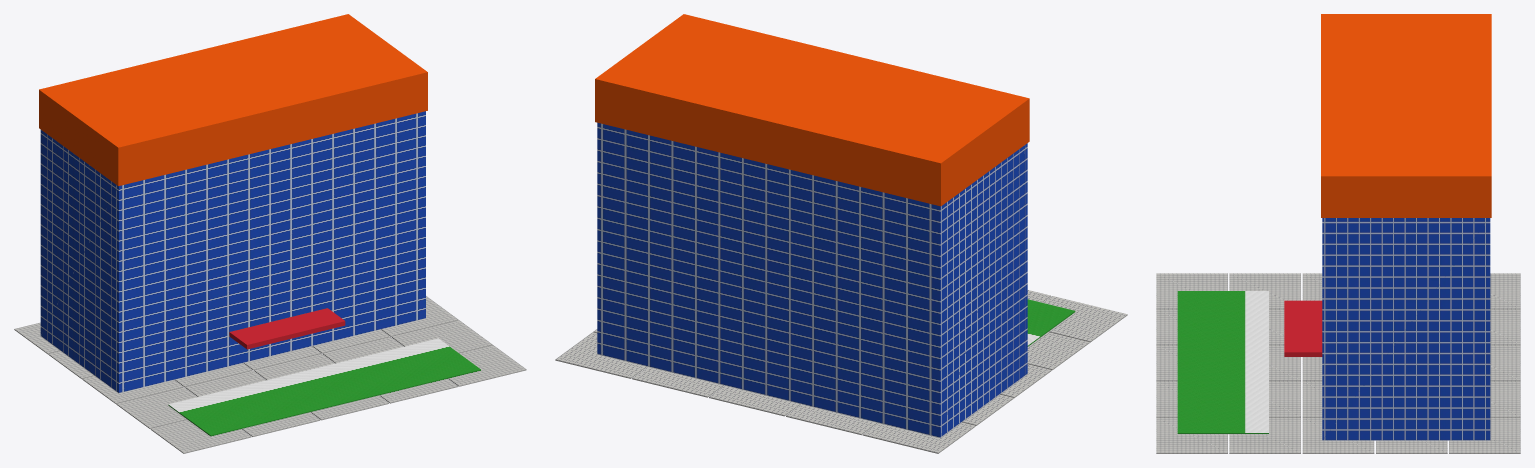
The picture shows the model from 3 angles, left to right: view 1: azimuth 30°, elevation 25°; view 2: azimuth 150°, elevation 25°; view 3: azimuth 270°, elevation 25°; orthographic projection. The views are drawn at different scales.
Visible parts, largest first — view 1: 28185_B47_Square1_Shopping_Mall; view 2: 28185_B47_Square1_Shopping_Mall; view 3: 28185_B47_Square1_Shopping_Mall.
Boxes of the visible parts, x1,y1,x2,y2 form: 28185_B47_Square1_Shopping_Mall: (14, 14, 526, 453); 28185_B47_Square1_Shopping_Mall: (555, 14, 1127, 453); 28185_B47_Square1_Shopping_Mall: (1156, 14, 1520, 453).
Size of the model in its own units: 55.8 by 38.5 by 47.8.
1 material, 1 textured.
